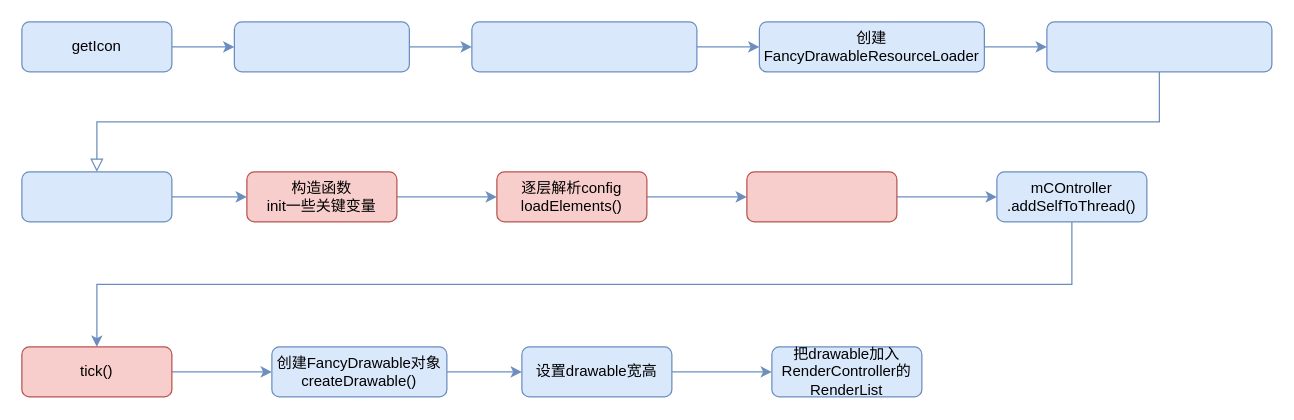
This 1294x420 diagram has some shape labels left out. Here are the shapes that lost their labels. From the top down, the centre of each, then its label:
point 321,46: getFancyDrawableRoot
point 584,46: getFancyDrawableRootInternal
point 1159,46: 读取config manifest getManifestRoot
point 96,196: 创建 FancyDrawableRoot
point 821,196: 初始化各Manager initRoot()
